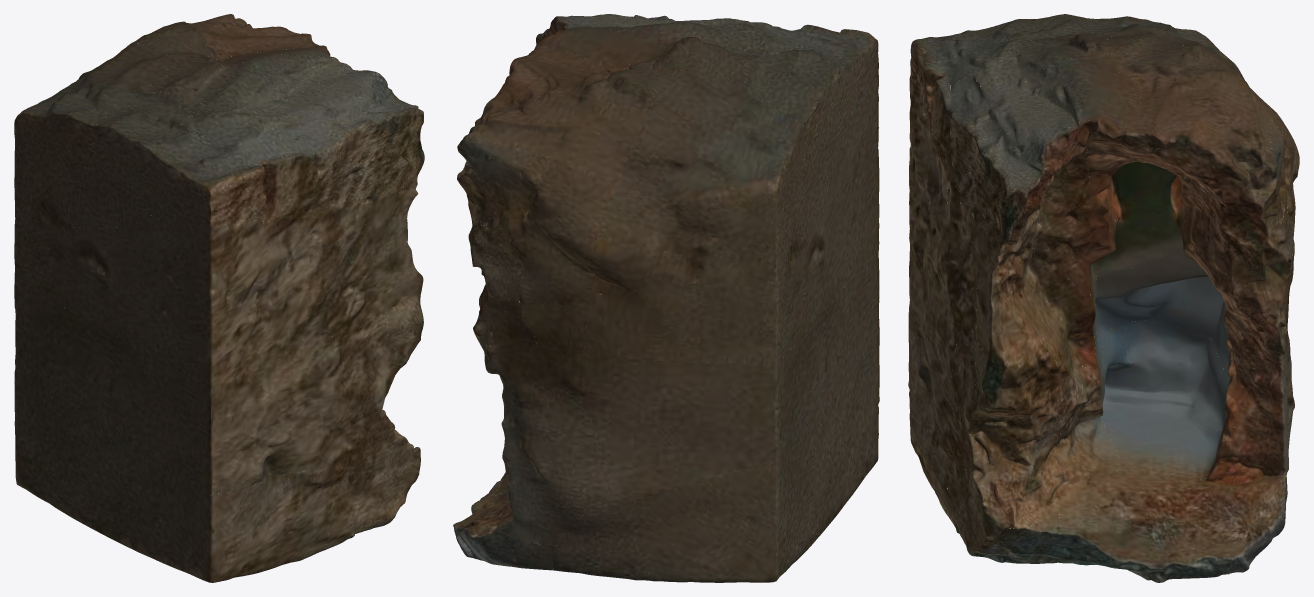
The model's file is void_figure.glb.
3 renders of one model, left to right at view 1: azimuth 30°, elevation 25°; view 2: azimuth 150°, elevation 25°; view 3: azimuth 270°, elevation 25°, orthographic. The views are drawn at different scales.
Parts seen in each view (by area): view 1: DST_VoidFigure; view 2: DST_VoidFigure; view 3: DST_VoidFigure.
Boxes of the visible parts, bbox=[...] form: DST_VoidFigure: bbox=[14, 14, 424, 582]; DST_VoidFigure: bbox=[453, 14, 879, 582]; DST_VoidFigure: bbox=[908, 14, 1299, 582].
Size of the model in its own units: 1.71 by 2.4 by 1.82.
Materials: 1 (1 with a texture image).
